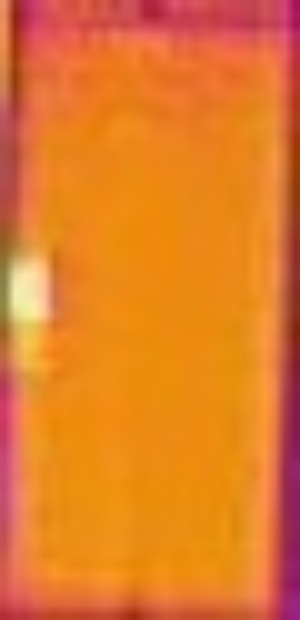Hotspot: (10, 242, 59, 331)
